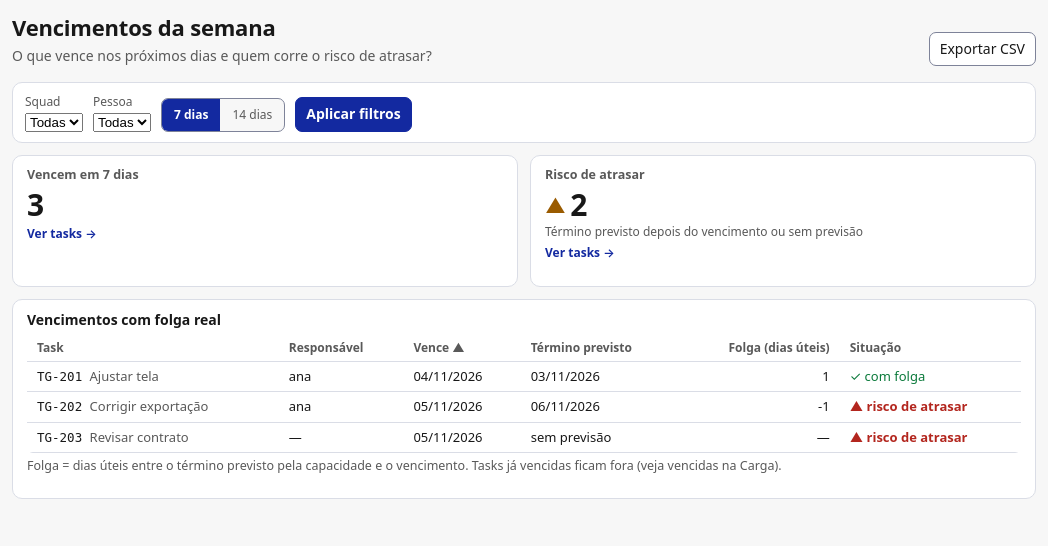
Test case: tela Vencimentos da semana › alternaSeteECatorzeDias
This screenshot has width=1048, height=546.
Expected: the table named "Vencimentos com folga real" is shown, x1=27 y1=334 x2=1021 y2=453
Click the button "14 dias" at x=252, y=115, box x1=220 y1=99 x2=284 y2=131
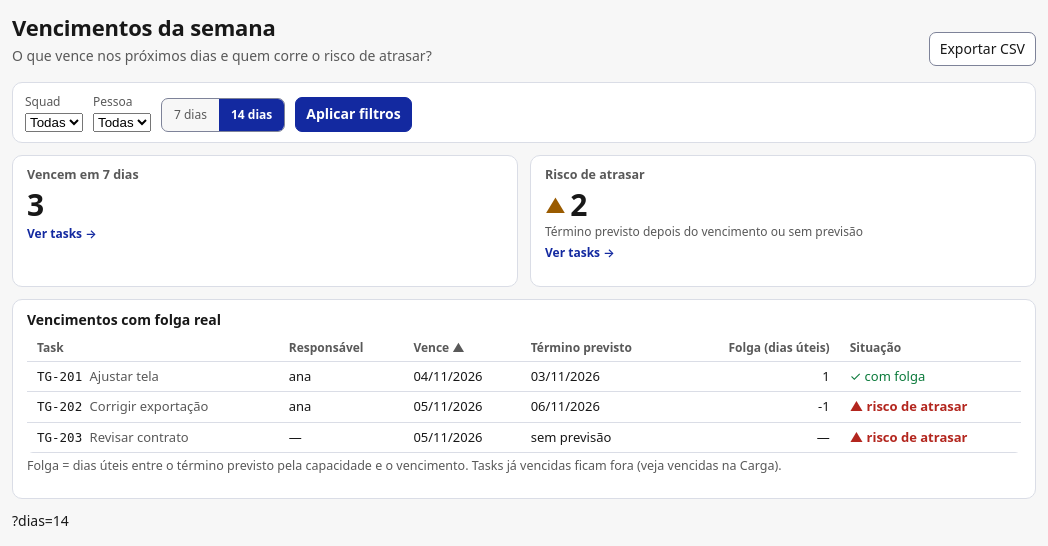
Result: the text with test id "url" shows "dias=14" at x1=12 y1=511 x2=69 y2=530
